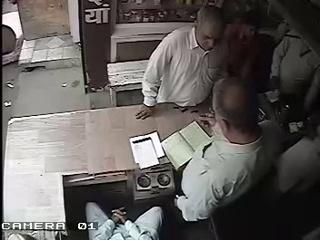Normal: (174, 76, 282, 226), (268, 0, 320, 238), (135, 5, 227, 122), (85, 202, 163, 239)
